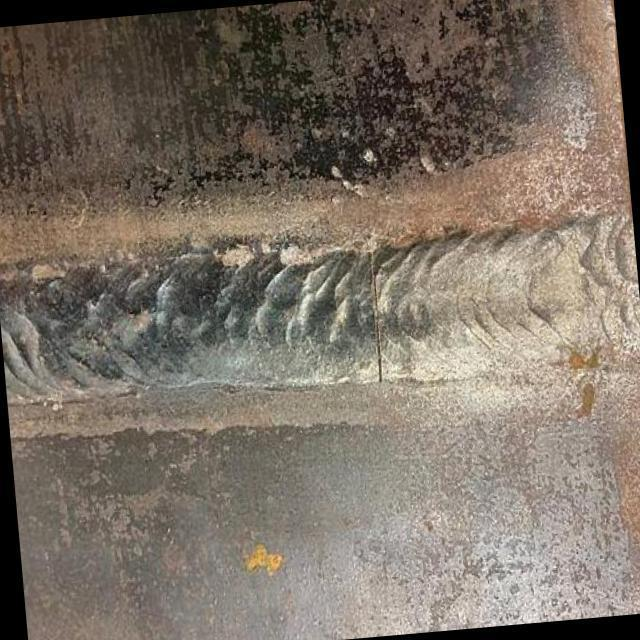defect: (366, 255, 386, 395)
